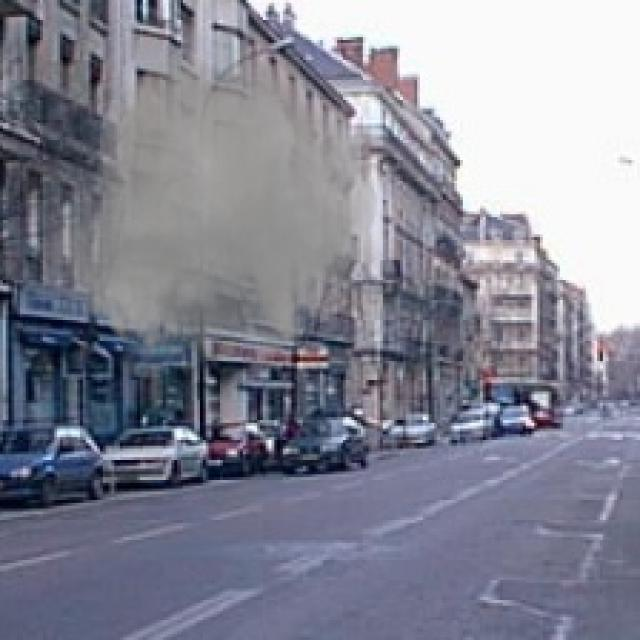Smoke: (28, 2, 386, 392)
